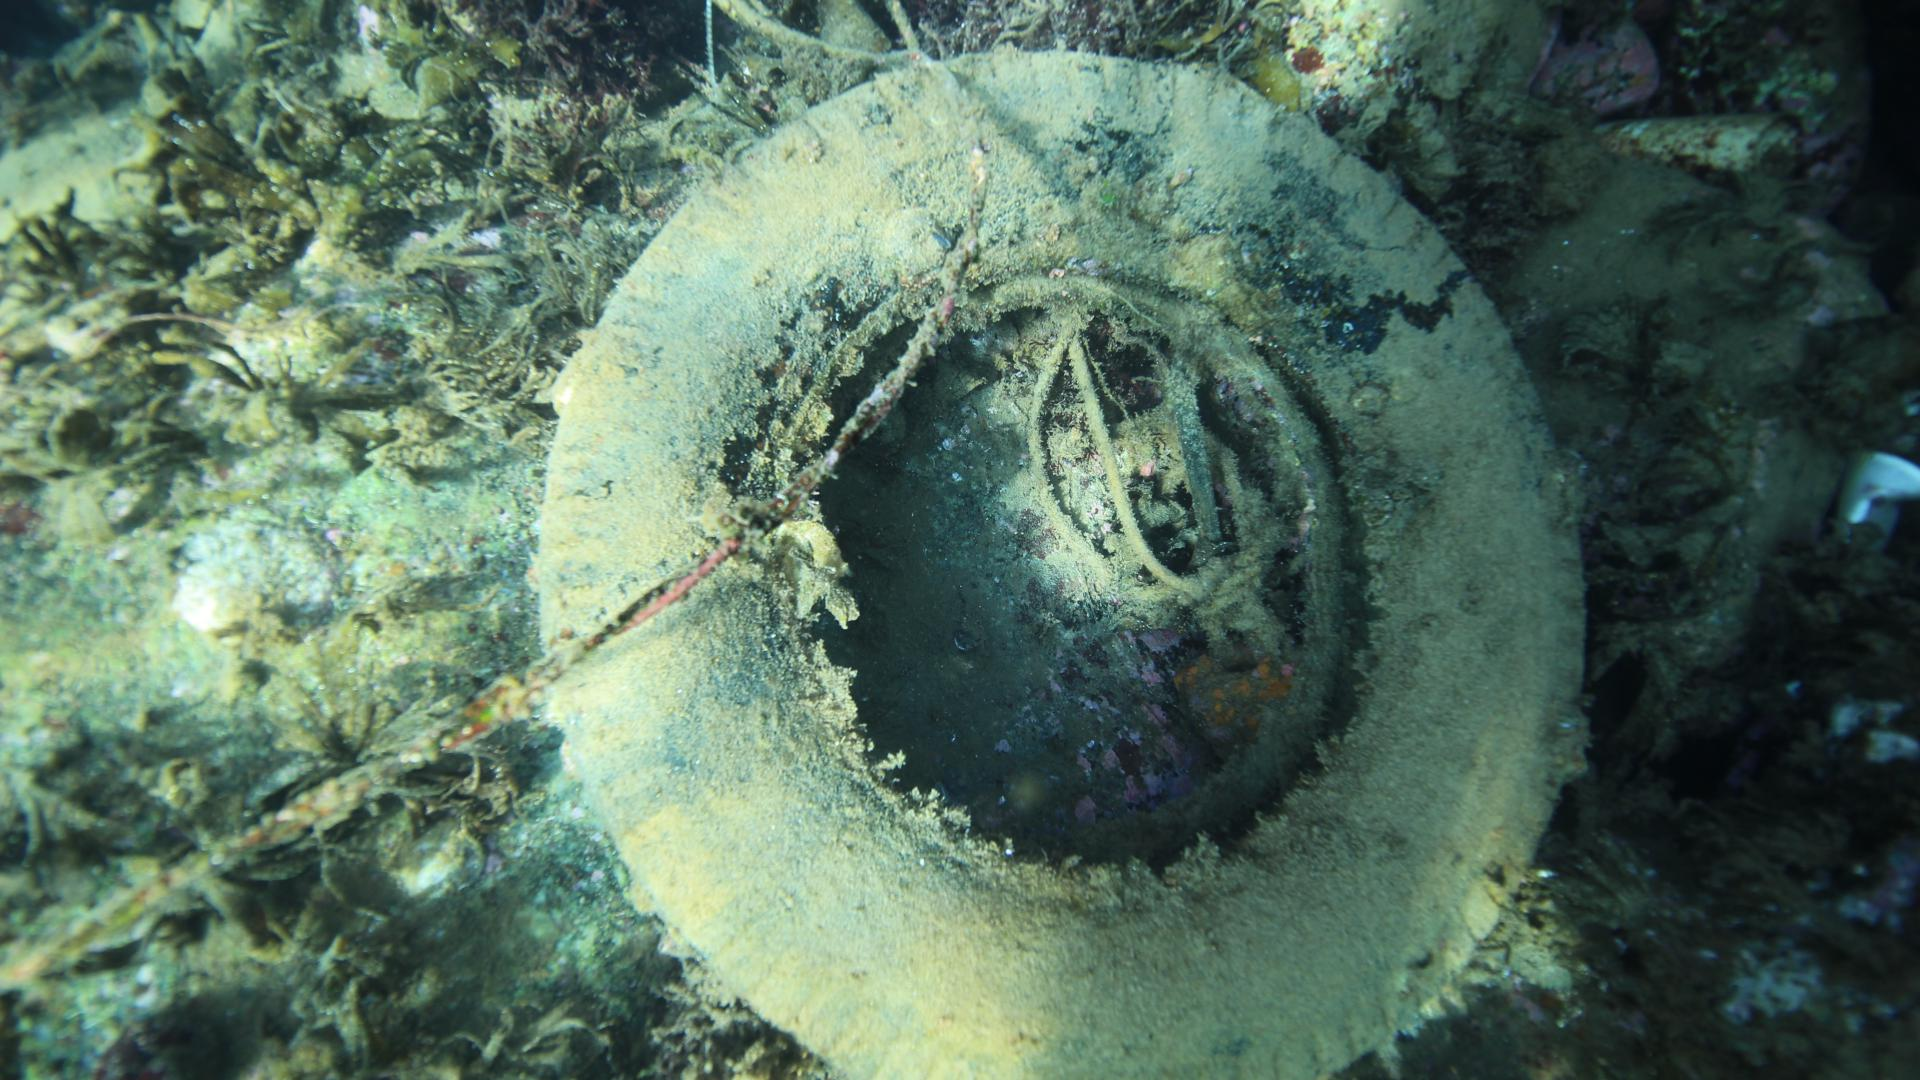tire: (531, 46, 1592, 1080)
